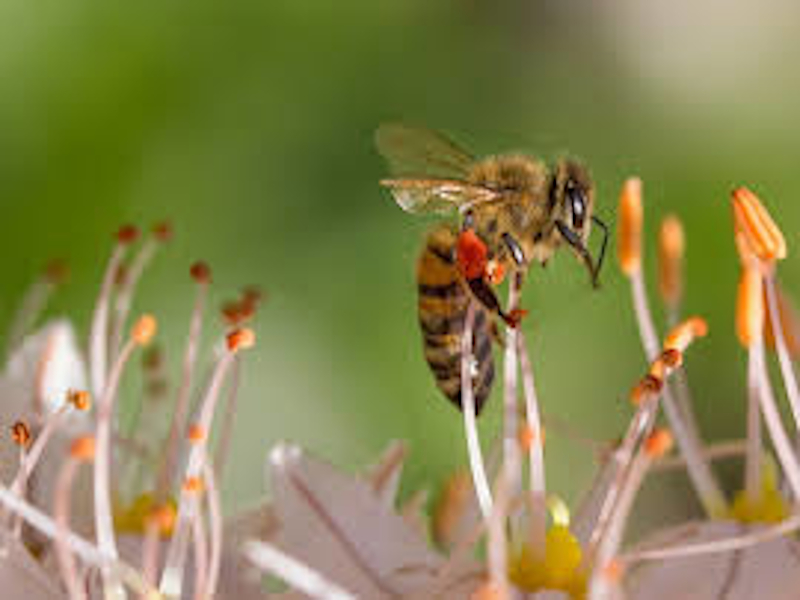abeja: (361, 89, 629, 422)
